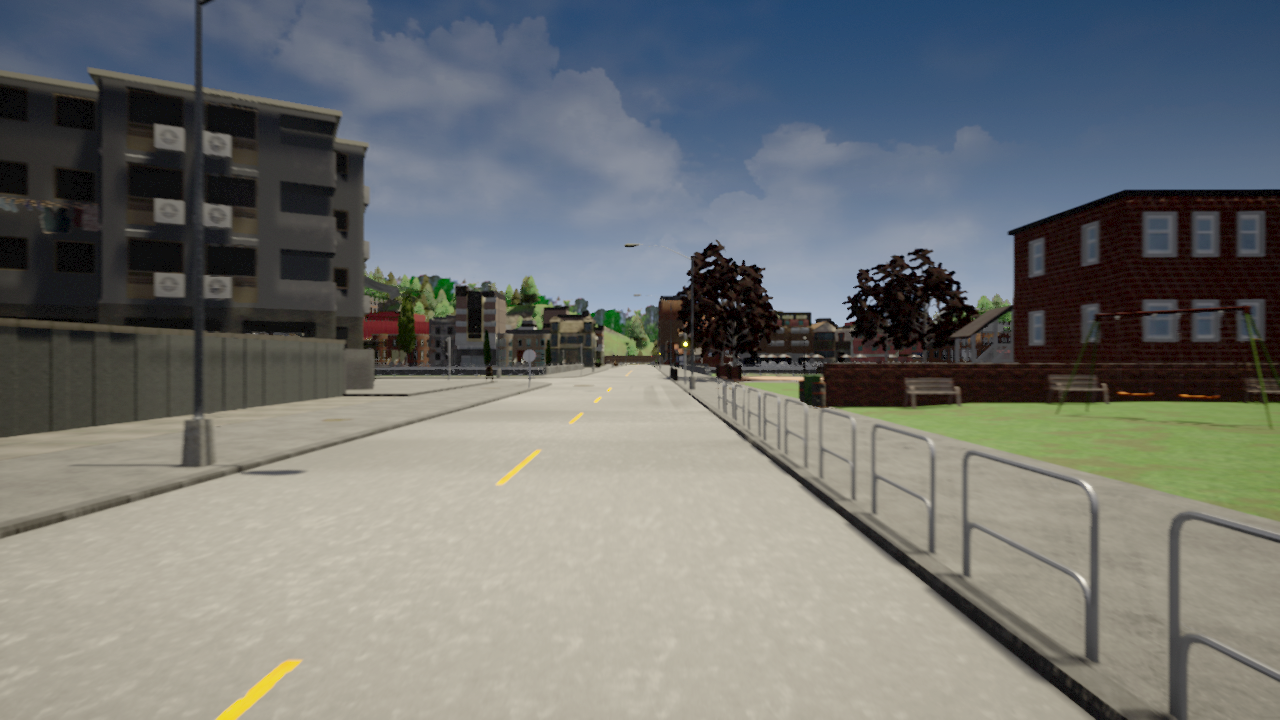yellow: (681, 335, 689, 352)
